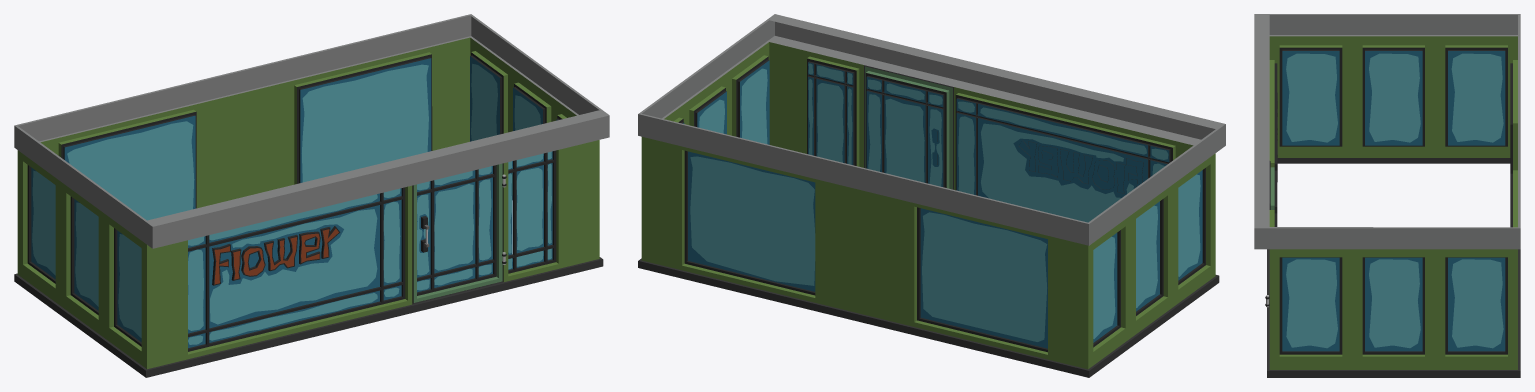
Rendered from Building_A_01.FBX.
The picture shows the model from 3 angles, left to right: view 1: azimuth 30°, elevation 25°; view 2: azimuth 150°, elevation 25°; view 3: azimuth 270°, elevation 25°; orthographic projection. The views are drawn at different scales.
Visible parts, largest first — view 1: Building_A_01; view 2: Building_A_01; view 3: Building_A_01.
Part boxes in pixels (bbox=[...]): Building_A_01: bbox=[14, 14, 609, 377]; Building_A_01: bbox=[638, 14, 1225, 377]; Building_A_01: bbox=[1254, 14, 1520, 377].
Size of the model in its own units: 10 by 3.26 by 5.25.
